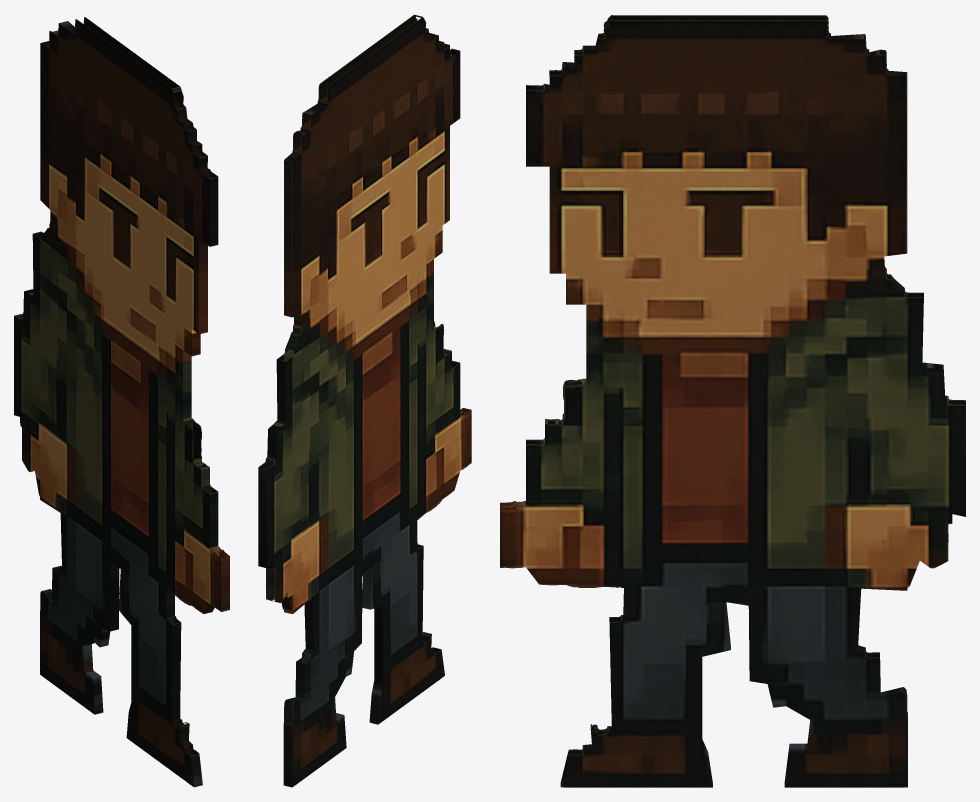
The picture shows the model from 3 angles, left to right: view 1: azimuth 30°, elevation 25°; view 2: azimuth 150°, elevation 25°; view 3: azimuth 270°, elevation 25°; orthographic projection. The views are drawn at different scales.
Visible parts, largest first — view 1: ChatGPT Image 12_06_2025, 19_22_11.006; view 2: ChatGPT Image 12_06_2025, 19_22_11.006; view 3: ChatGPT Image 12_06_2025, 19_22_11.006.
Part boxes in pixels (box(x1,y1,x2,y2)): ChatGPT Image 12_06_2025, 19_22_11.006: box(14, 17, 229, 787); ChatGPT Image 12_06_2025, 19_22_11.006: box(258, 14, 471, 787); ChatGPT Image 12_06_2025, 19_22_11.006: box(500, 15, 965, 787).
Size of the model in its own units: 1 by 74.92 by 41.12.
Materials: 1 (1 with a texture image).
